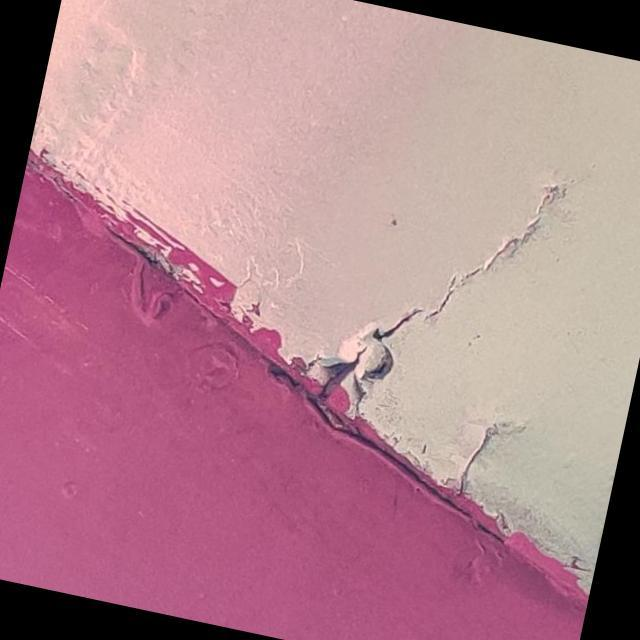Rupture: (268, 113, 586, 472), (423, 397, 523, 518)
